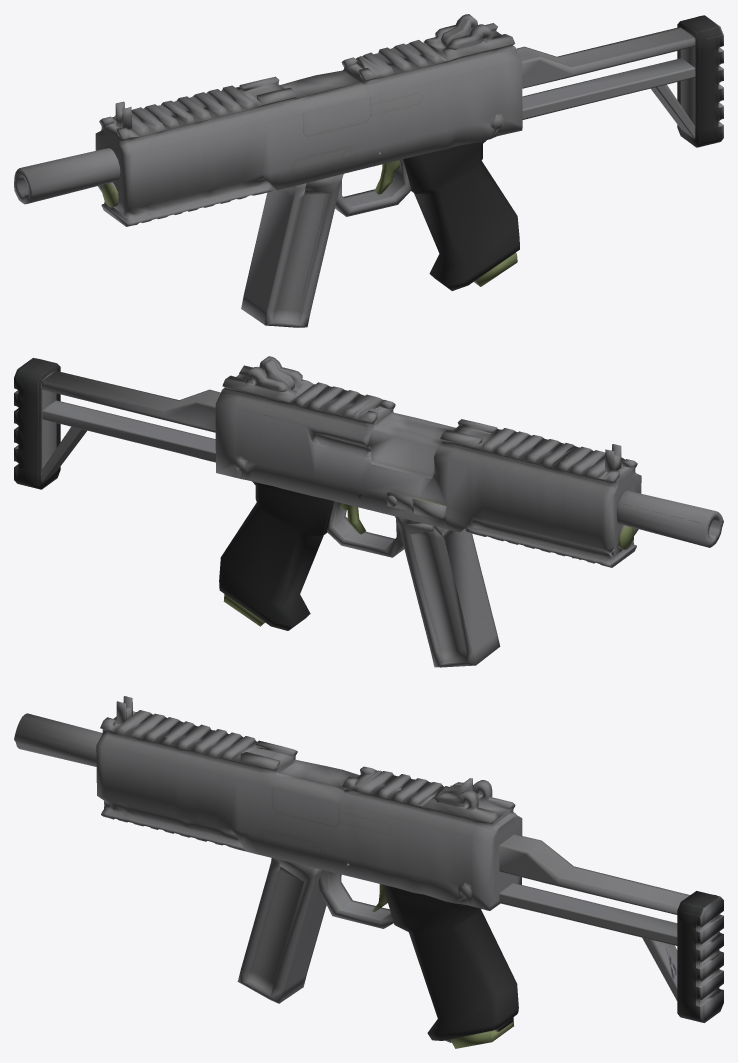
The model's file is smg_ferret.glb.
3 views of the same model, one above another, from view 1: azimuth 30°, elevation 25°; view 2: azimuth 150°, elevation 25°; view 3: azimuth 330°, elevation 25° (orthographic).
Size of the model in its own units: 0.9575 by 0.3452 by 0.0854.
Materials: 1 (1 with a texture image).
